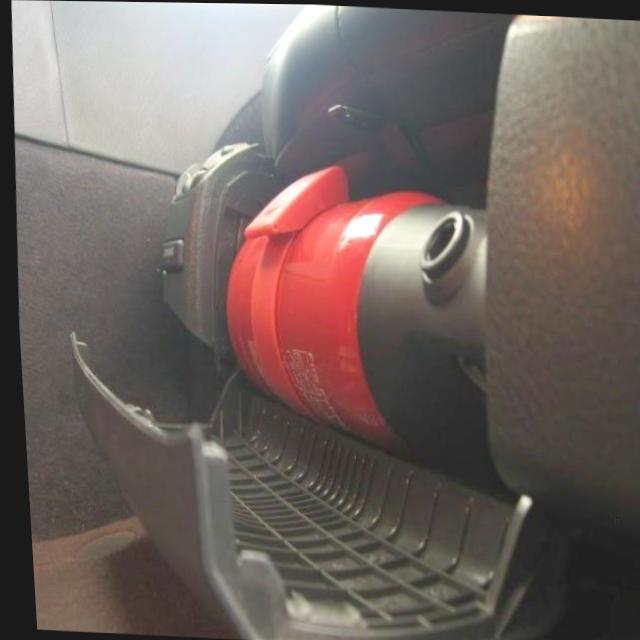FireExtinguisher: (200, 140, 549, 476)
